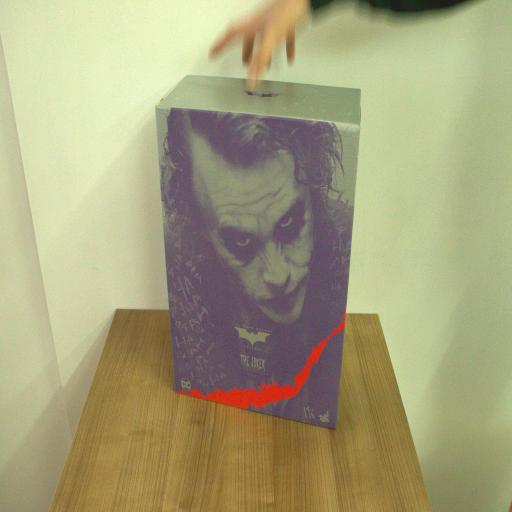Joker: (161, 70, 362, 430)
